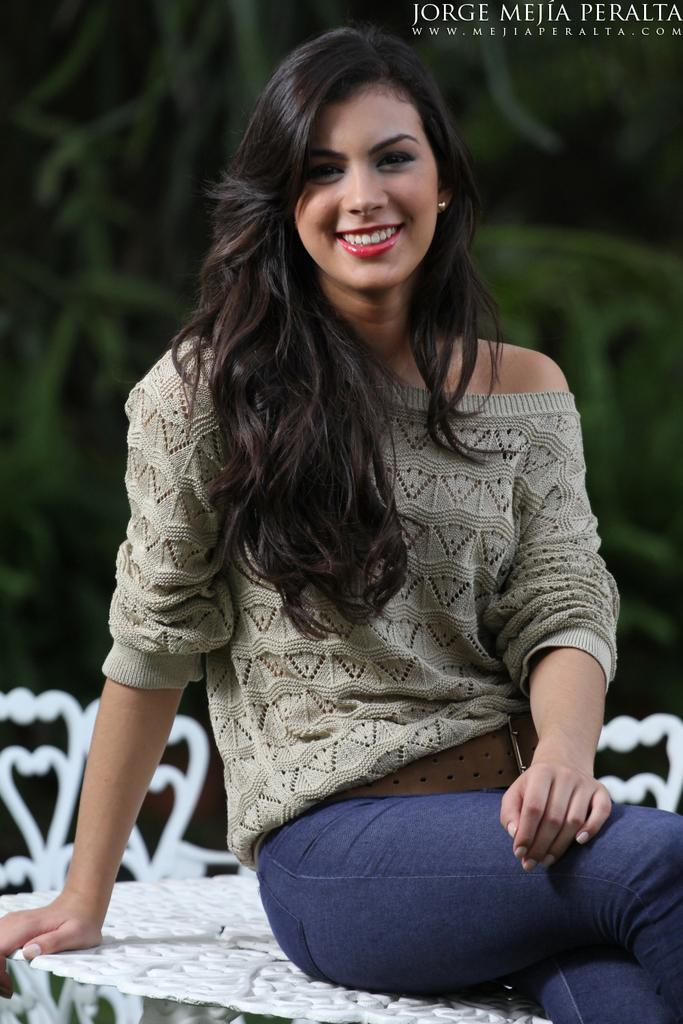Sem Máscara: (290, 70, 442, 285)
